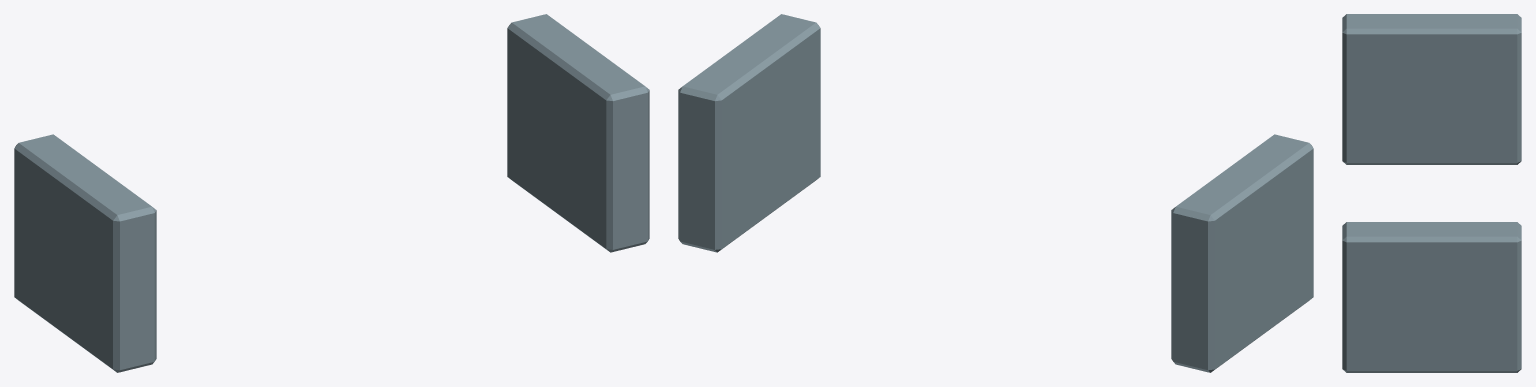
The model's file is City_Bench_Legs.glb.
3 views of the same model, side by side, from view 1: azimuth 30°, elevation 25°; view 2: azimuth 150°, elevation 25°; view 3: azimuth 270°, elevation 25° (orthographic). The views are drawn at different scales.
Parts seen in each view (by area): view 1: City_Bench_Legs; view 2: City_Bench_Legs; view 3: City_Bench_Legs.
Boxes of the visible parts, x1,y1,x2,y2 form: City_Bench_Legs: (14,14,649,372); City_Bench_Legs: (678,14,1313,372); City_Bench_Legs: (1342,14,1521,372).
Size of the model in its own units: 1.85 by 0.52 by 0.62.
